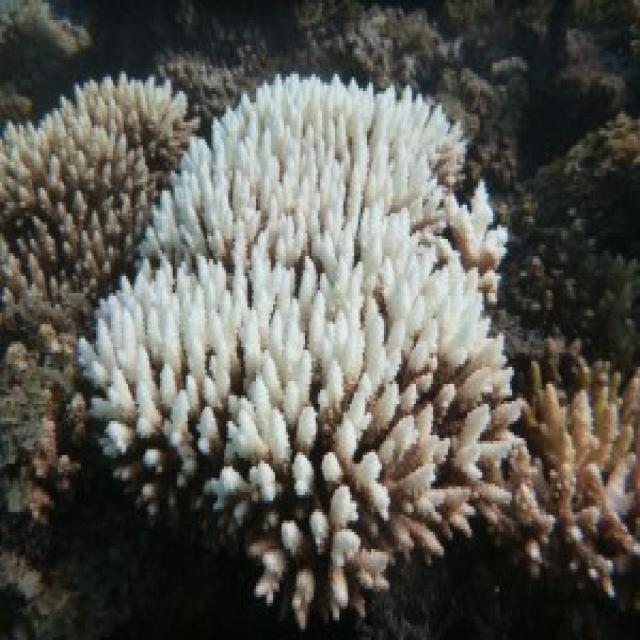Bleached: (80, 254, 517, 627), (142, 75, 507, 303)
Healthy: (1, 78, 199, 311), (511, 362, 639, 593)
